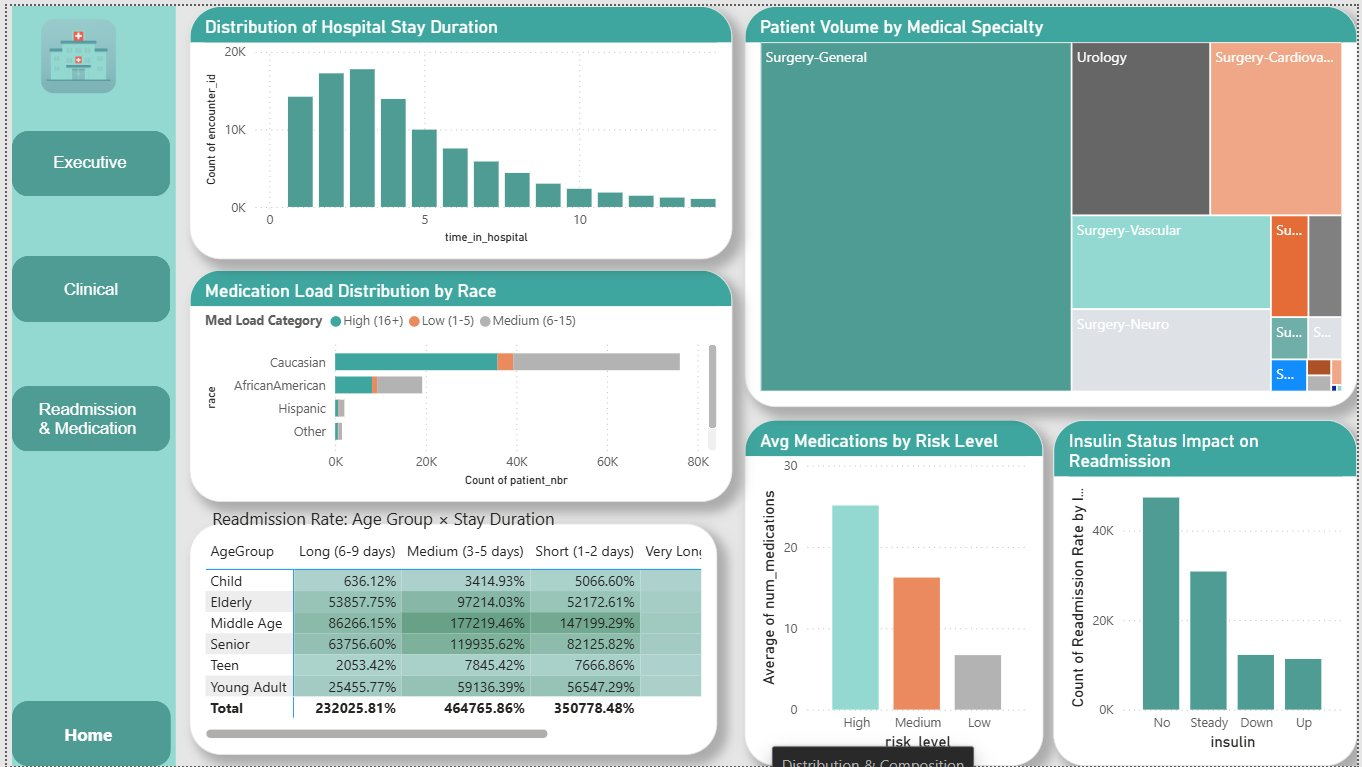

This screenshot's page, from the dashboard's own definition file:
{"tool":"powerbi","page":{"name":"Distribution & Composition","canvas":[1280,720],"ordinal":4},"visuals":[{"type":"shape","box":[4.7,0,155.1,720.1],"z":0},{"type":"clusteredColumnChart","title":"Avg Medications by Risk Level","fields":{"Category":["diabetic_data_cleaned4.risk_level"],"Y":["Avg(diabetic_data_cleaned4.num_medications)"]},"box":[698.8,391.8,283.5,328.2],"z":1000},{"type":"treemap","title":"Patient Volume by Medical Specialty","fields":{"Group":["diabetic_data_cleaned4.medical_specialty"],"Values":["Count(diabetic_data_cleaned4.encounter_id)"]},"box":[698.8,0,581.2,380],"z":2000},{"type":"pivotTable","fields":{"Rows":["diabetic_data_cleaned4.AgeGroup"],"Columns":["diabetic_data_cleaned4.Stay Category"],"Values":["Sum(diabetic_data_cleaned4.Readmission Rate %)"]},"box":[172.9,490.6,500,218.8],"z":3000},{"type":"barChart","title":"Medication Load Distribution by Race","fields":{"Category":["diabetic_data_cleaned4.race"],"Series":["diabetic_data_cleaned4.Med Load Category"],"Y":["CountNonNull(diabetic_data_cleaned4.patient_nbr)"]},"box":[172.9,249.4,514.1,220],"z":4000},{"type":"clusteredColumnChart","title":"Distribution of Hospital Stay Duration","fields":{"Category":["diabetic_data_cleaned4.time_in_hospital"],"Y":["CountNonNull(diabetic_data_cleaned4.encounter_id)"]},"box":[172.9,0,514.1,240],"z":5000},{"type":"shape","box":[4.5,359.6,149.9,62],"z":6000},{"type":"actionButton","box":[19.2,368.6,115,46.2],"z":7000},{"type":"shape","box":[4.7,237.1,149.9,62.8],"z":8000},{"type":"shape","box":[4.7,118.1,149.9,61.9],"z":9000},{"type":"actionButton","box":[28.1,128.4,100.3,40.3],"z":10000},{"type":"actionButton","box":[29.4,248.7,99.7,39.9],"z":11000},{"type":"shape","box":[4.7,658.5,150.4,61.6],"z":12000},{"type":"actionButton","box":[27.2,669.1,99.5,40.3],"z":13000},{"type":"clusteredColumnChart","title":"Insulin Status Impact on Readmission","fields":{"Category":["diabetic_data_cleaned4.insulin"],"Y":["CountNonNull(diabetic_data_cleaned4.Readmission Rate by Insulin %)"]},"box":[991.8,391.8,288.2,328.2],"z":13001},{"type":"textbox","box":[189.4,469.4,415.3,38.8],"z":13002},{"type":"image","box":[18.8,0,97.6,96.5],"z":13003}]}

Visuals, with their boxes in screenshot pixels (x1, y1, x2, y2), scaled from the page's 1280x720 canvas onto the 1362x767 screenshot:
shape: x1=5 y1=0 x2=170 y2=766
"Avg Medications by Risk Level" clusteredColumnChart: x1=744 y1=417 x2=1045 y2=766
"Patient Volume by Medical Specialty" treemap: x1=744 y1=0 x2=1361 y2=405
pivotTable - diabetic_data_cleaned4.AgeGroup x diabetic_data_cleaned4.Stay Category: x1=184 y1=523 x2=716 y2=756
"Medication Load Distribution by Race" barChart: x1=184 y1=266 x2=731 y2=500
"Distribution of Hospital Stay Duration" clusteredColumnChart: x1=184 y1=0 x2=731 y2=256
shape: x1=5 y1=383 x2=164 y2=449
actionButton: x1=20 y1=393 x2=143 y2=442
shape: x1=5 y1=253 x2=165 y2=319
shape: x1=5 y1=126 x2=165 y2=192
actionButton: x1=30 y1=137 x2=137 y2=180
actionButton: x1=31 y1=265 x2=137 y2=307
shape: x1=5 y1=701 x2=165 y2=766
actionButton: x1=29 y1=713 x2=135 y2=756
"Insulin Status Impact on Readmission" clusteredColumnChart: x1=1055 y1=417 x2=1361 y2=766
textbox: x1=202 y1=500 x2=643 y2=541
image: x1=20 y1=0 x2=124 y2=103
